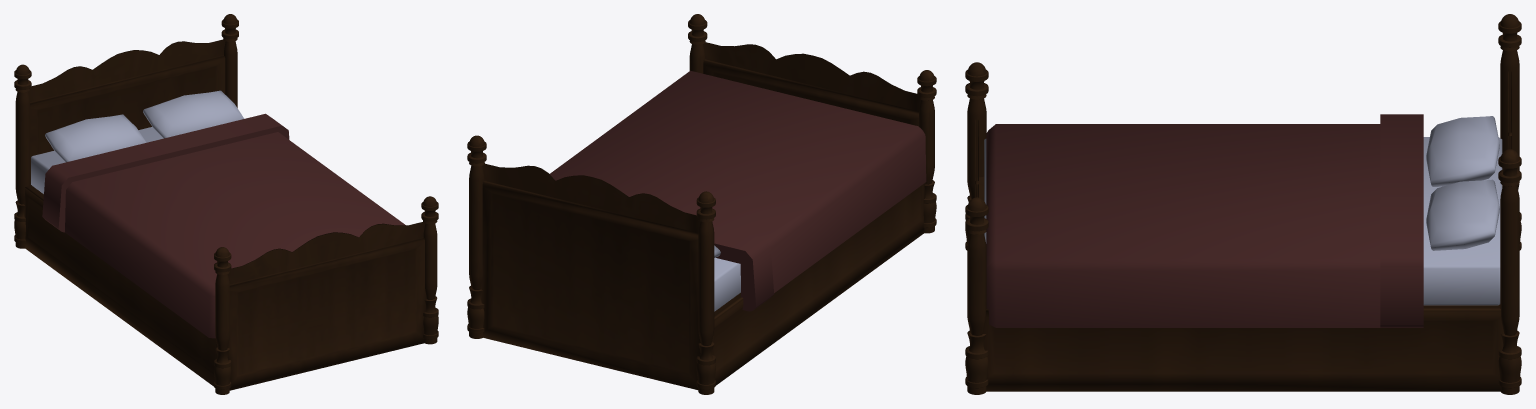
The model's file is Bed.fbx.
3 views of the same model, side by side, from view 1: azimuth 30°, elevation 25°; view 2: azimuth 150°, elevation 25°; view 3: azimuth 270°, elevation 25° (orthographic). The views are drawn at different scales.
Visible parts, largest first — view 1: Plane.006, Plane.002, Plane.005, Plane, Plane.003, Plane.001, Pillow, Pillow.001, Cube.001, Cube.003, Plane.004, Cube.002 (+4 smaller); view 2: Plane.006, Plane, Plane.005, Plane.001, Plane.003, Plane.002, Cube.001, Cube, Plane.004, Cube.003, Cylinder.006, Cylinder (+2 smaller); view 3: Plane.006, Plane.005, Plane.004, Pillow, Pillow.001, Cube, Cube.002, Cube.001, Cube.003, Cylinder, Cylinder.012.
Boxes of the visible parts, x1,y1,x2,y2 form: Plane.006: (42,113,405,338); Plane.002: (227,237,426,390); Plane.005: (24,183,217,386); Plane: (30,55,225,182); Plane.003: (227,222,425,284); Plane.001: (28,39,225,101); Pillow: (143,90,244,138); Pillow.001: (45,114,146,162); Cube.001: (15,91,29,204); Cube.003: (215,274,229,350); Plane.004: (31,127,163,193); Cube.002: (423,223,437,299); Plane.006: (550,70,926,311); Plane: (480,181,700,389); Plane.005: (712,182,925,385); Plane.001: (482,163,700,232); Plane.003: (703,42,921,111); Plane.002: (703,59,918,126); Cube.001: (698,221,714,345); Cube: (469,165,484,289); Plane.004: (714,257,740,311); Cube.003: (919,100,934,184); Cylinder.006: (696,341,715,394); Cylinder: (467,286,484,338); Plane.006: (986,114,1423,327); Plane.005: (977,176,1503,391); Plane.004: (984,137,1502,305); Pillow: (1426,179,1499,250); Pillow.001: (1426,116,1499,186); Cube: (1500,185,1519,335); Cube.002: (967,233,986,335); Cube.001: (1500,50,1519,189); Cube.003: (967,98,986,198); Cylinder: (1498,330,1521,394); Cylinder.012: (965,330,988,394).
Size of the model in its own units: 337 by 249 by 522.
